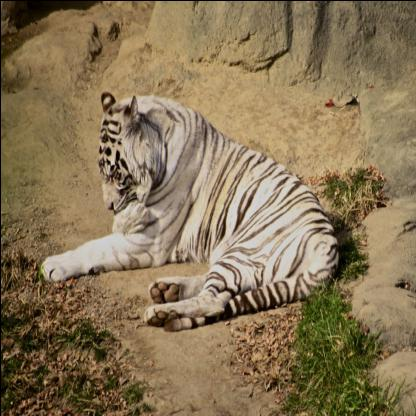tiger: (86, 97, 163, 213)
